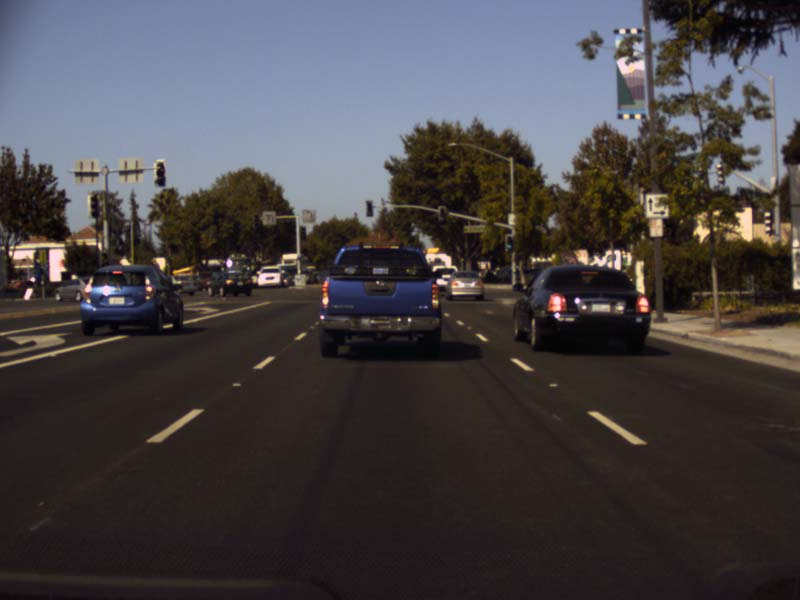Green: (437, 208, 445, 221), (506, 236, 512, 252), (366, 202, 372, 216)
